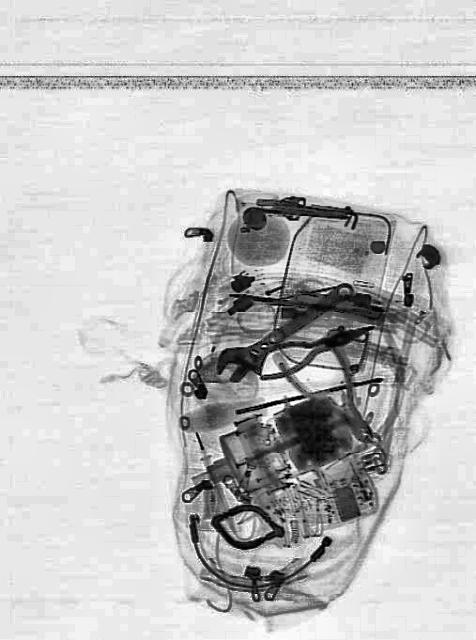Pliers: (278, 322, 393, 464), (254, 314, 376, 382)
Wrench: (210, 266, 360, 398)
